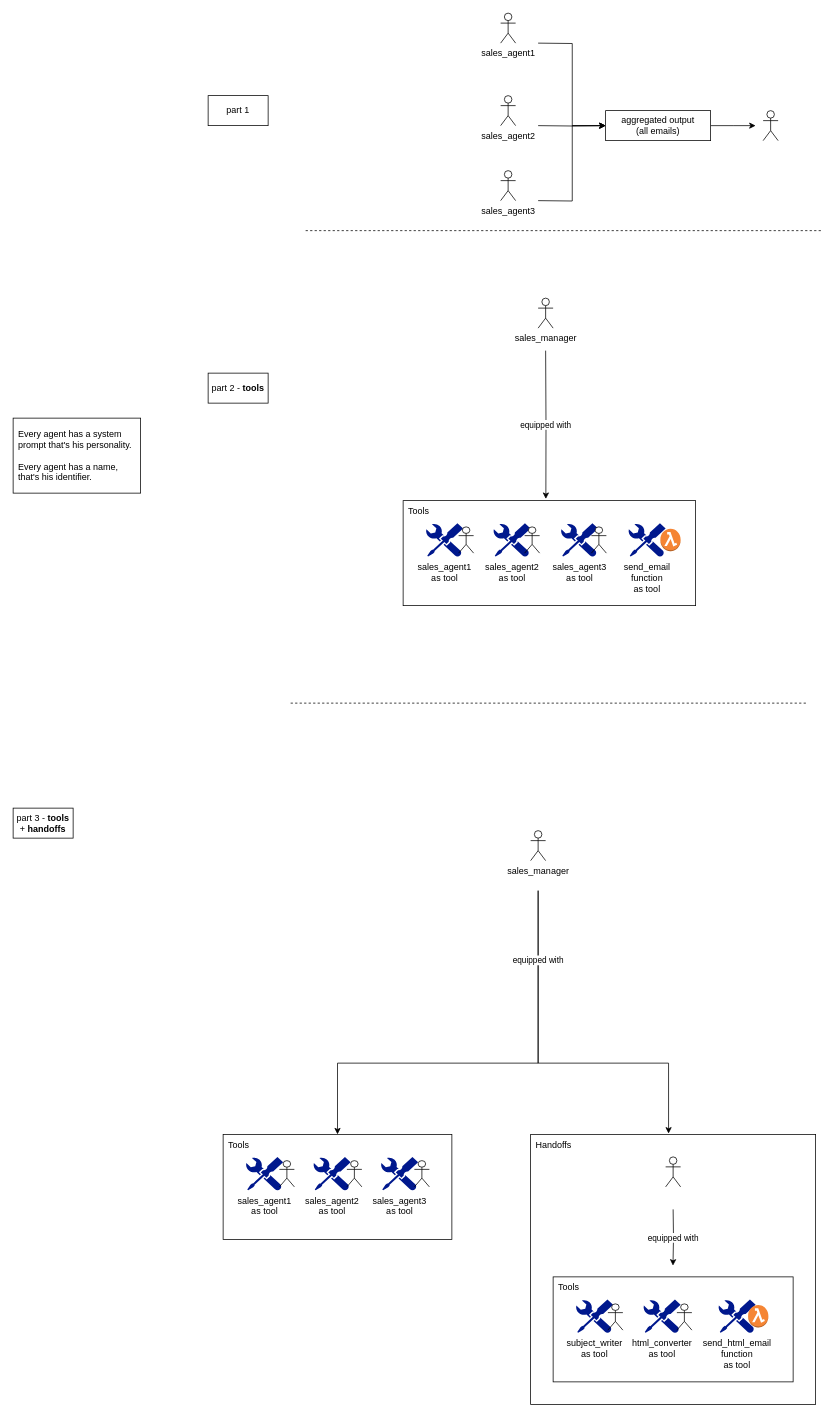
Image size: 837x1418. Some labels were removed from this diagram. The shapes that lost their labels are listed below. From the top down, each one's centre as x and y in pixels, then its label:
the point at 770,125: sales_picker
the point at 673,1171: email_agent
